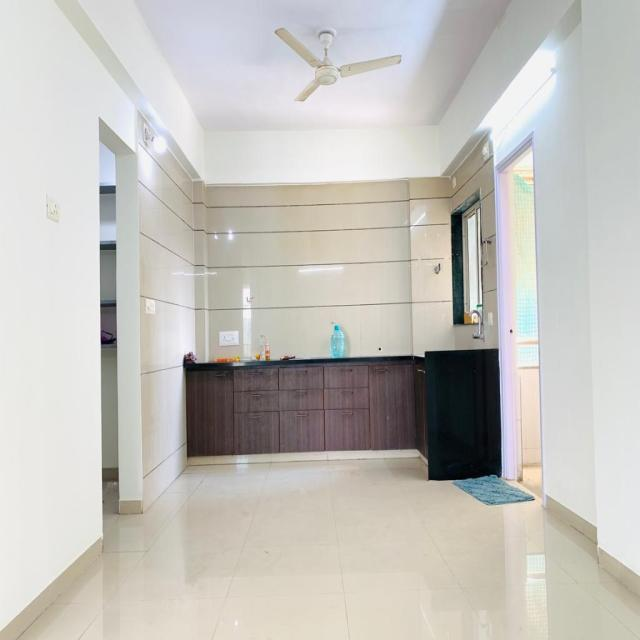floor: (16, 456, 640, 640)
wall: (451, 21, 597, 529), (205, 177, 413, 363), (582, 0, 640, 576), (136, 107, 196, 513), (439, 0, 578, 175), (76, 0, 205, 184), (204, 126, 441, 184), (116, 154, 142, 502), (409, 175, 455, 358), (497, 172, 518, 481), (192, 180, 208, 363), (101, 348, 119, 468), (99, 194, 116, 242), (100, 250, 116, 301), (99, 141, 116, 186), (101, 307, 117, 344)
